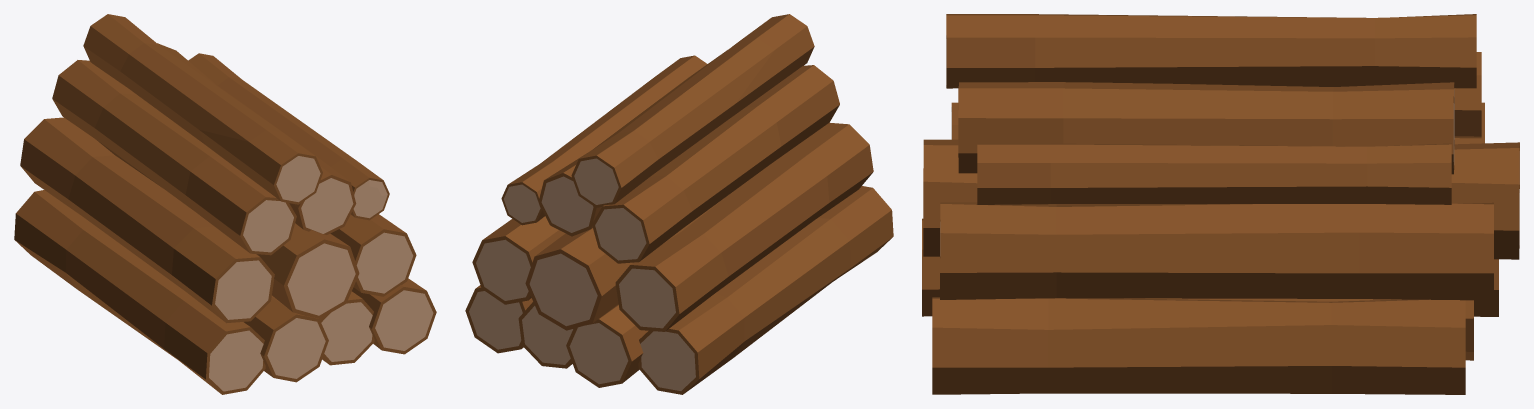
Rendered from Logs.fbx.
3 views of the same model, side by side, from view 1: azimuth 30°, elevation 25°; view 2: azimuth 150°, elevation 25°; view 3: azimuth 270°, elevation 25° (orthographic). The views are drawn at different scales.
Parts seen in each view (by area): view 1: Logs; view 2: Logs; view 3: Logs.
Part boxes in pixels (x1,y1,x2,y2): Logs: (14, 14, 436, 394); Logs: (465, 14, 893, 394); Logs: (922, 14, 1519, 394).
Size of the model in its own units: 214 by 197 by 344.
1 material, 1 textured.
